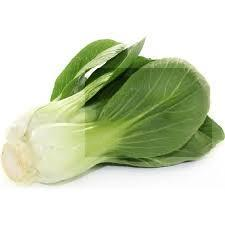Healthy-Pechay: (26, 46, 216, 169)
